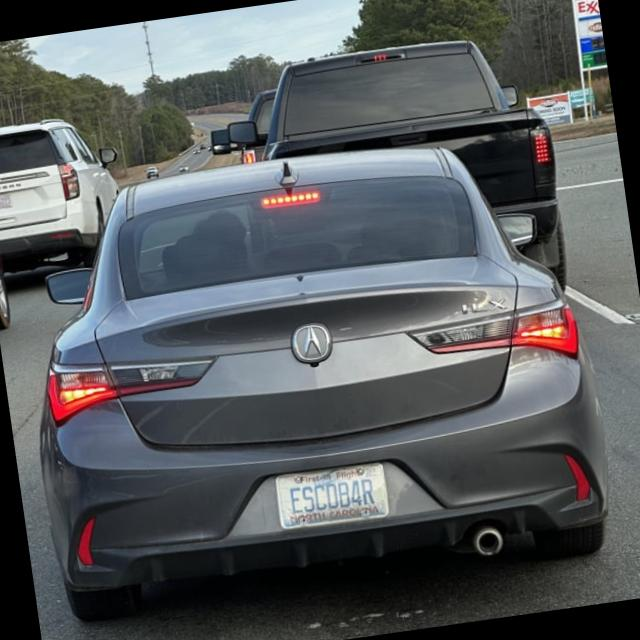LicensePlate: (275, 462, 390, 530)
